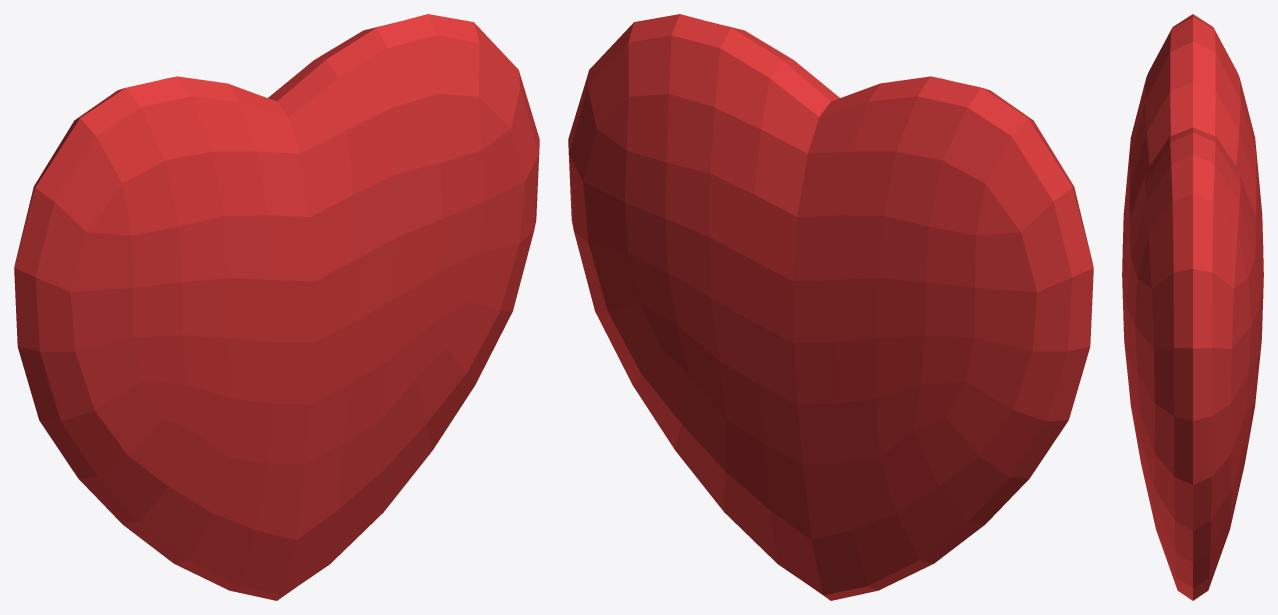
Rendered from heart-model_v01.glb.
3 views of the same model, side by side, from view 1: azimuth 30°, elevation 25°; view 2: azimuth 150°, elevation 25°; view 3: azimuth 270°, elevation 25° (orthographic). The views are drawn at different scales.
Visible parts, largest first — view 1: heart-model; view 2: heart-model; view 3: heart-model.
Part boxes in pixels (<box>): heart-model: <box>14,14,539,600</box>; heart-model: <box>568,14,1093,600</box>; heart-model: <box>1122,14,1263,600</box>.
Bounding box in the file's own units: 1 × 1 × 0.25.
